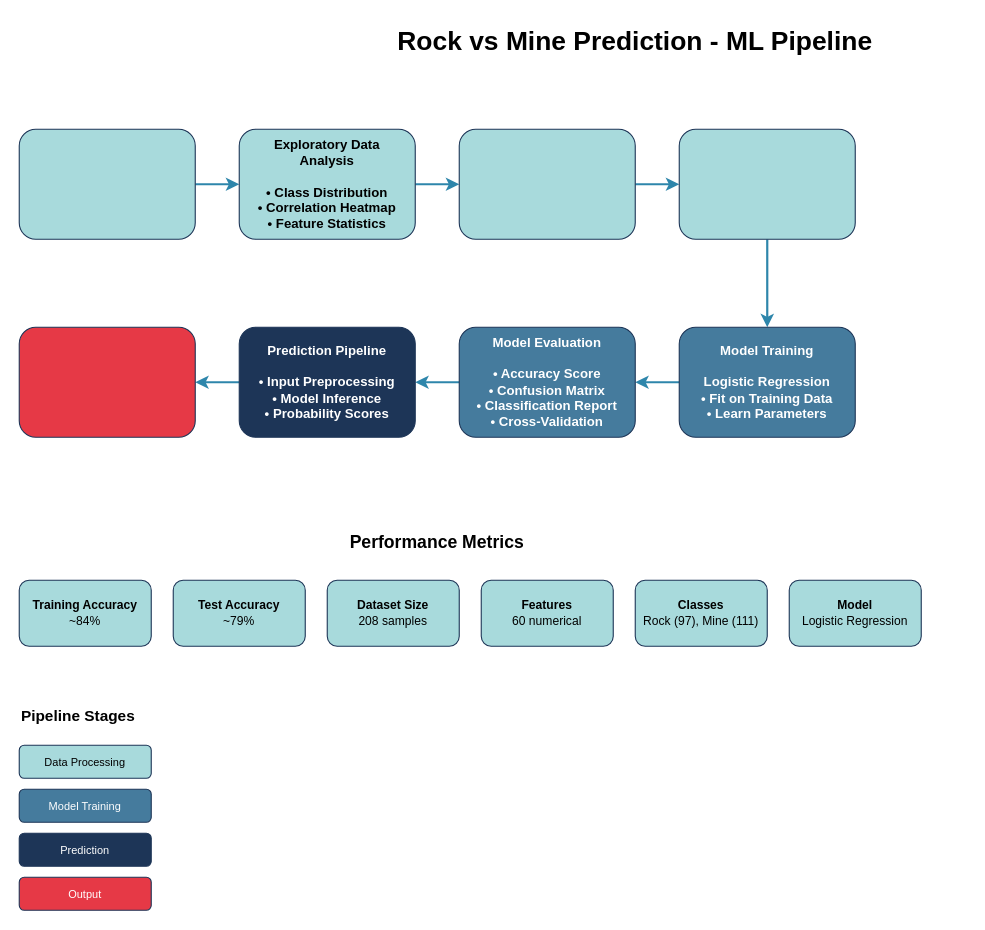
Some shapes in this 985 by 930 pixel diagram are drawn without their labels. The shapes that lost their labels are listed below. From the top down, each one's centre as x and y in pixels, then its label:
At [106,183]: "Data Ingestion Sonar Dataset CSV Format 208 samples × 61 features".
At [546,183]: "Data Preprocessing • Feature Separation • Label Encoding • StandardScaler".
At [766,183]: "Train/Test Split Test Size: 20% Random State: 42 Stratified Split".
At [106,381]: "Output Rock (R) or Mine (M) With Confidence Score".
